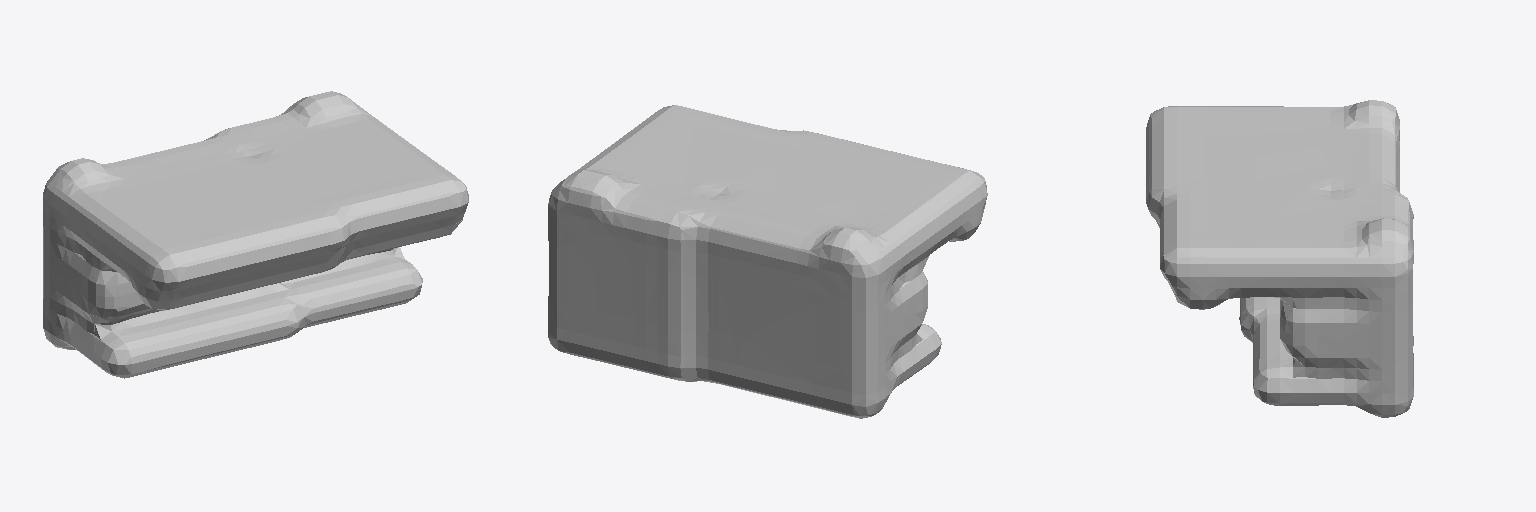
Rendered from profile.obj.
The picture shows the model from 3 angles: view 1: azimuth 30°, elevation 25°; view 2: azimuth 150°, elevation 25°; view 3: azimuth 270°, elevation 25°; orthographic projection.
Bounding box in the file's own units: 1.54 × 0.8252 × 1.1.